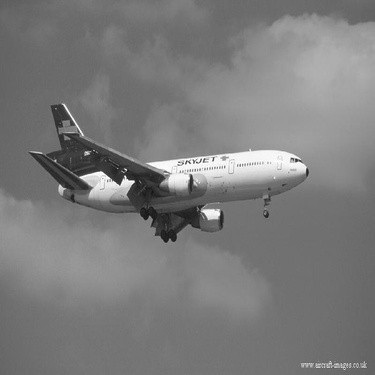airplane: (31, 90, 313, 246)
